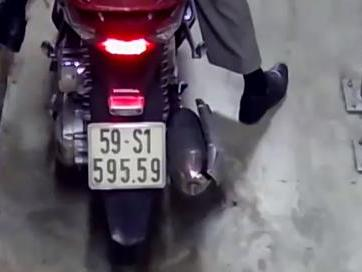num_plate: (86, 121, 165, 188)
